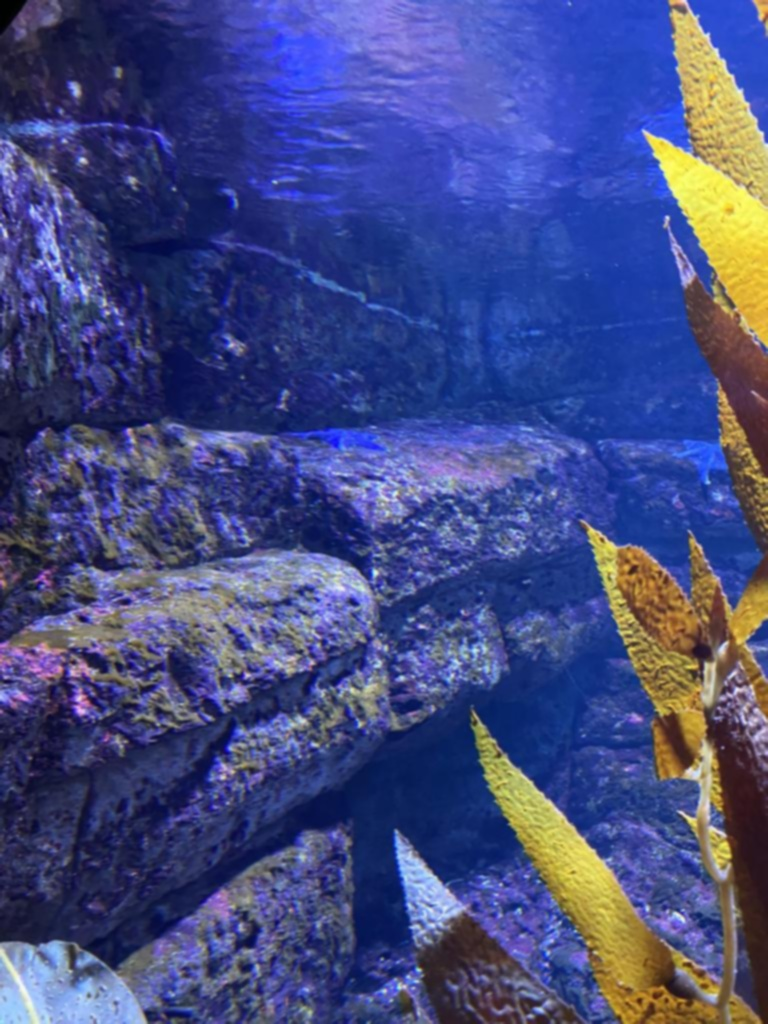starfish: (674, 435, 736, 491), (304, 417, 388, 455)
